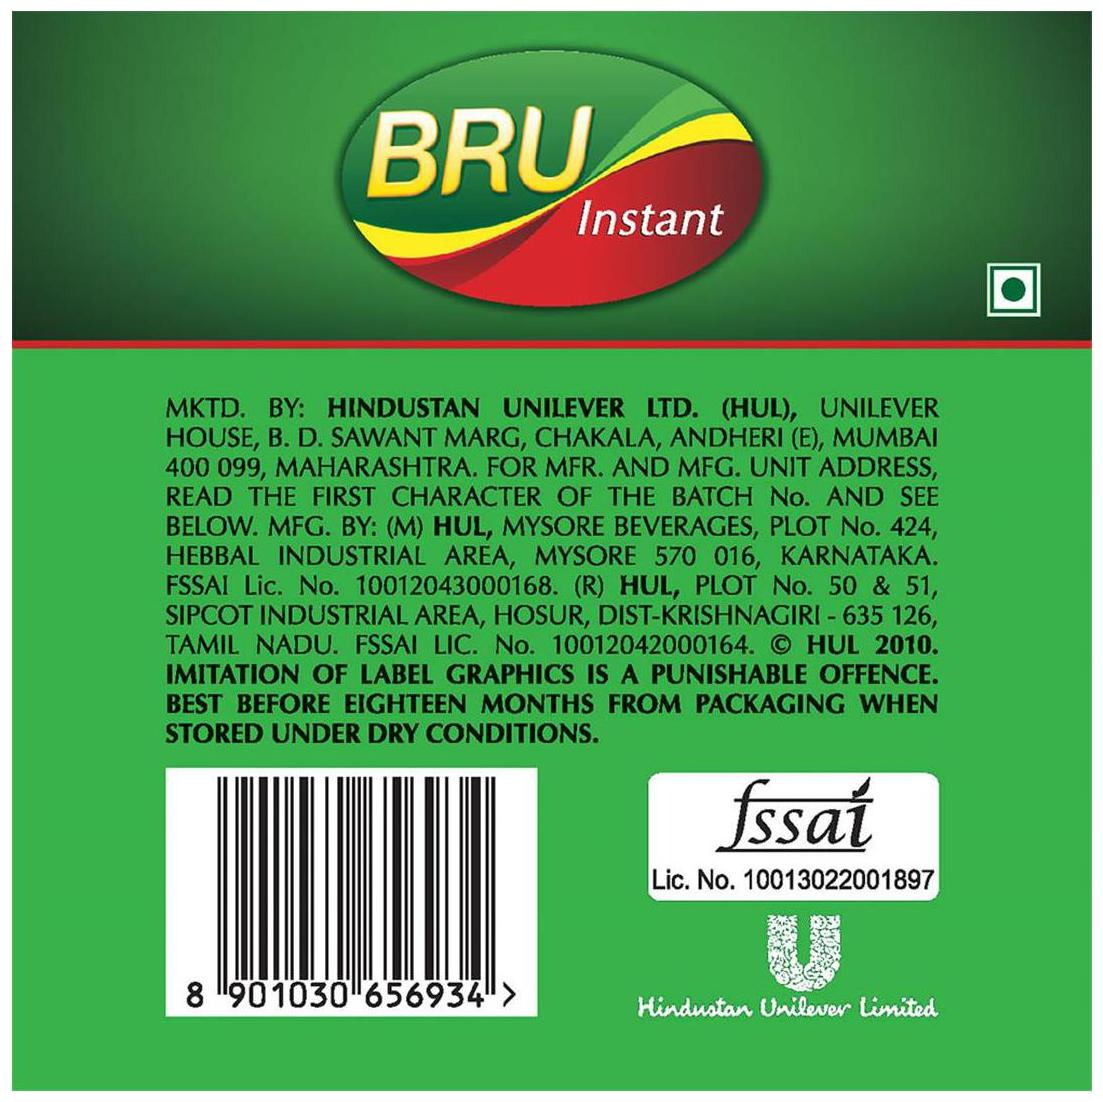fssai: (713, 778, 875, 855)
